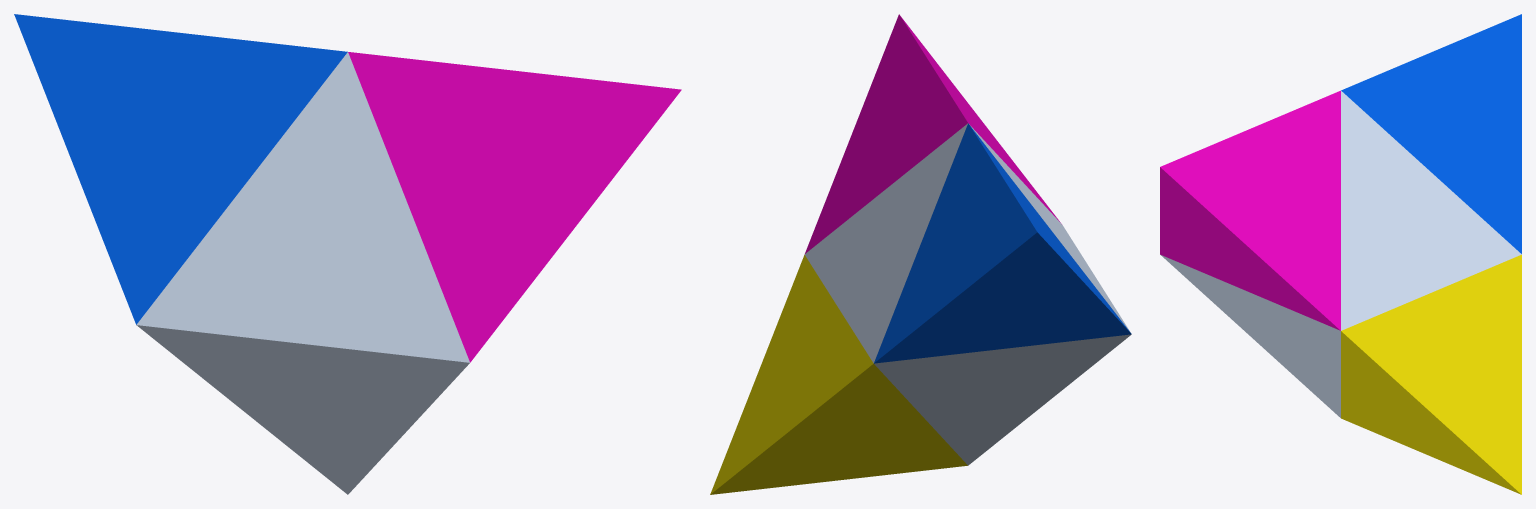
File: octTet_7.glb
3 views of the same model, side by side, from view 1: azimuth 30°, elevation 25°; view 2: azimuth 150°, elevation 25°; view 3: azimuth 270°, elevation 25° (orthographic). The views are drawn at different scales.
Size of the model in its own units: 4 by 4 by 4.
